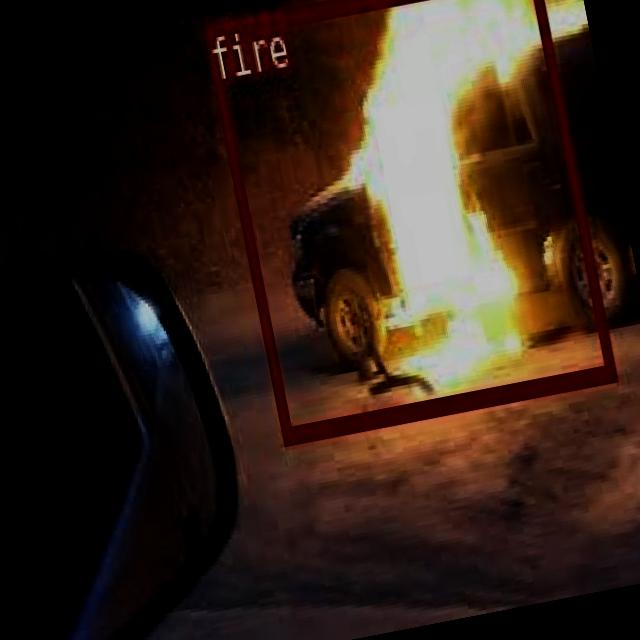fire: (201, 0, 616, 444)
